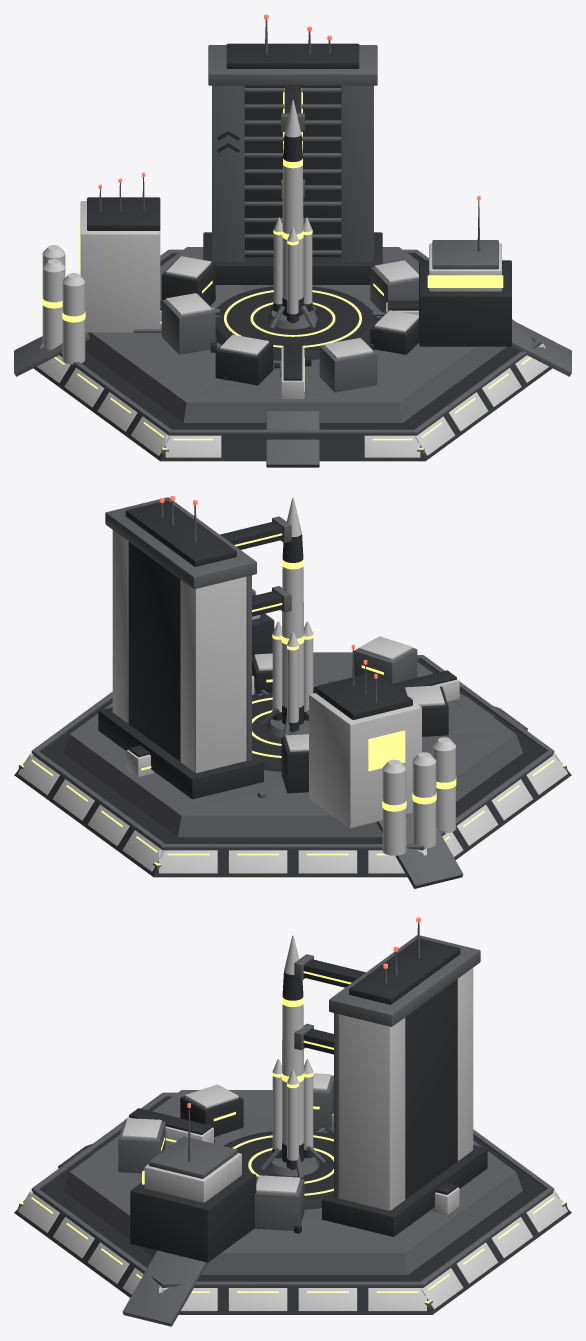
Rendered from sb_shipyard_t1.glb.
3 renders of one model, top to bottom at view 1: azimuth 30°, elevation 25°; view 2: azimuth 150°, elevation 25°; view 3: azimuth 270°, elevation 25°, orthographic. The views are drawn at different scales.
Parts seen in each view (by area): view 1: SM_LC_BODY, SM_LC_LIGHTS; view 2: SM_LC_BODY, SM_LC_LIGHTS; view 3: SM_LC_BODY, SM_LC_LIGHTS.
Part boxes in pixels (bbox=[...]): SM_LC_BODY: bbox=[14, 19, 571, 467]; SM_LC_LIGHTS: bbox=[42, 14, 531, 449]; SM_LC_BODY: bbox=[14, 497, 571, 888]; SM_LC_LIGHTS: bbox=[20, 496, 565, 865]; SM_LC_BODY: bbox=[14, 922, 571, 1326]; SM_LC_LIGHTS: bbox=[20, 917, 565, 1303].
Size of the model in its own units: 51.4 by 33.22 by 53.6.
